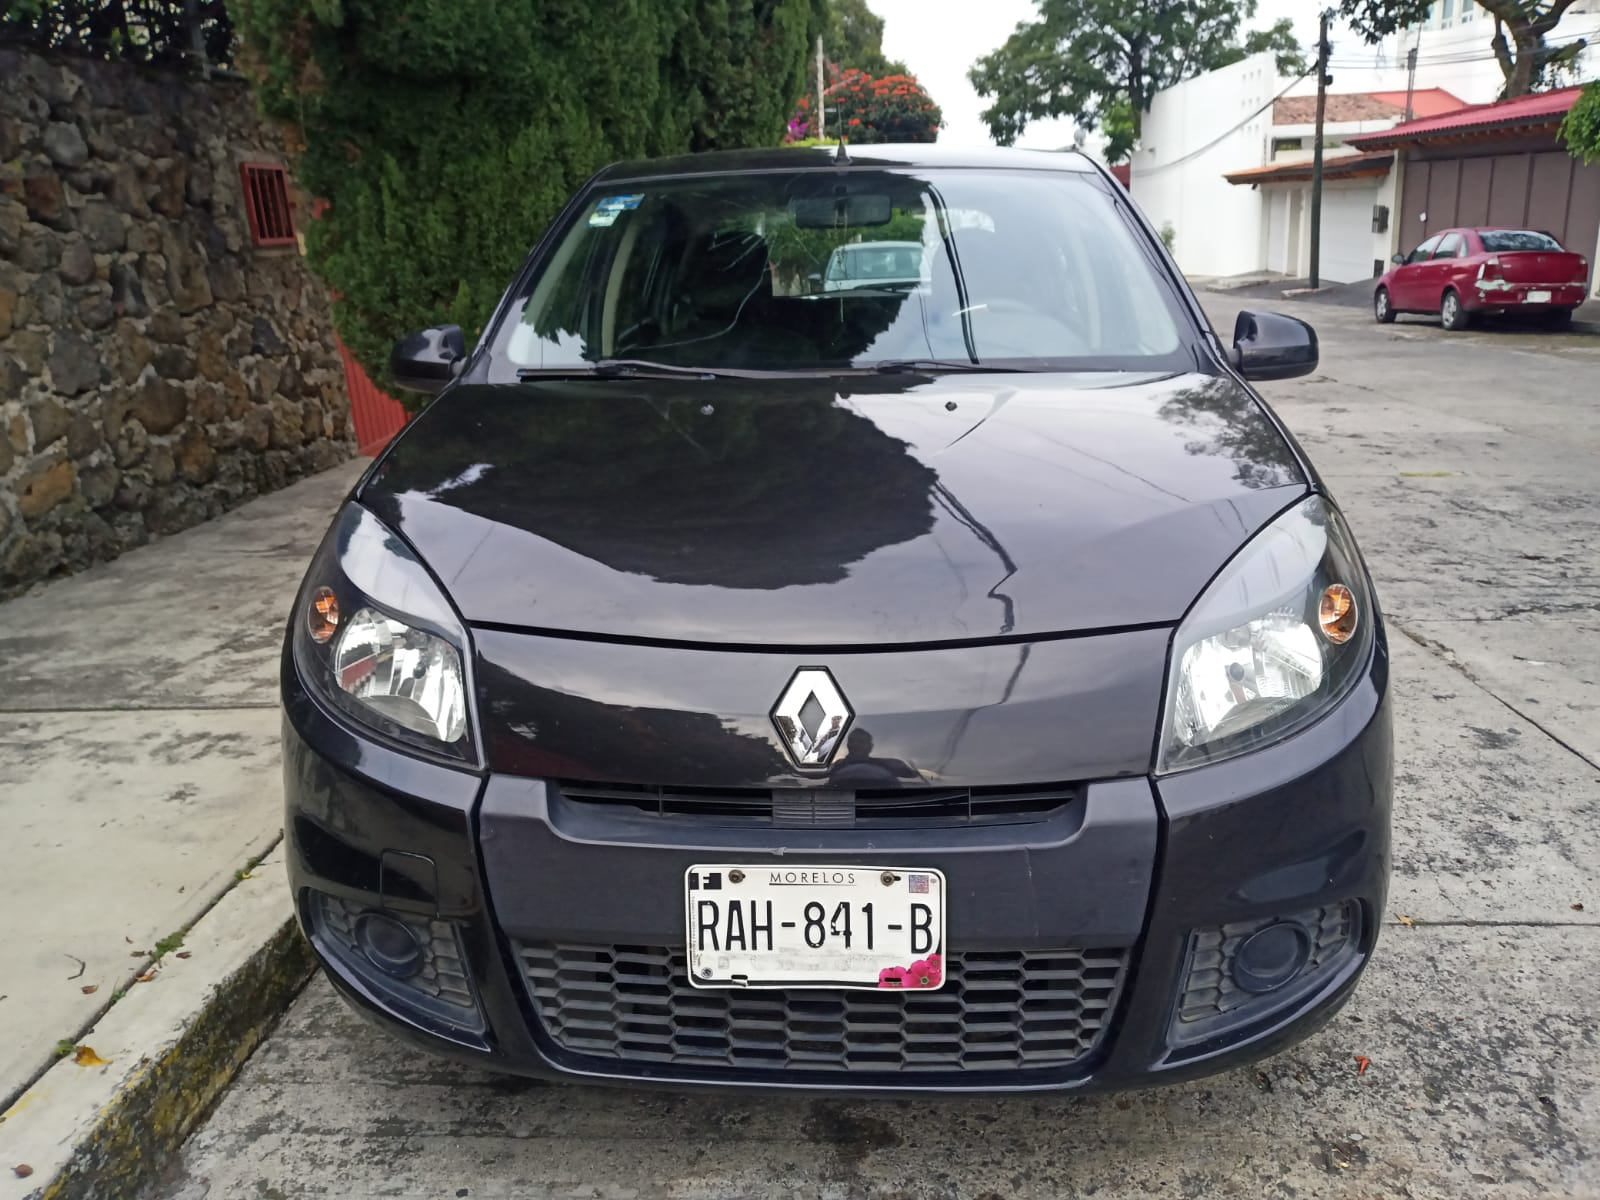Auto: (278, 142, 1396, 1094), (1369, 227, 1589, 329)
